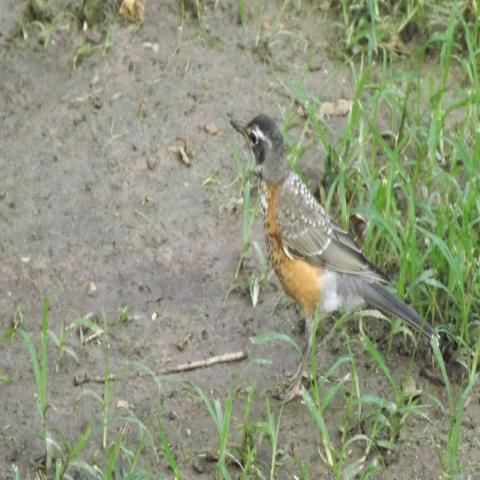bird: (228, 109, 441, 404)
